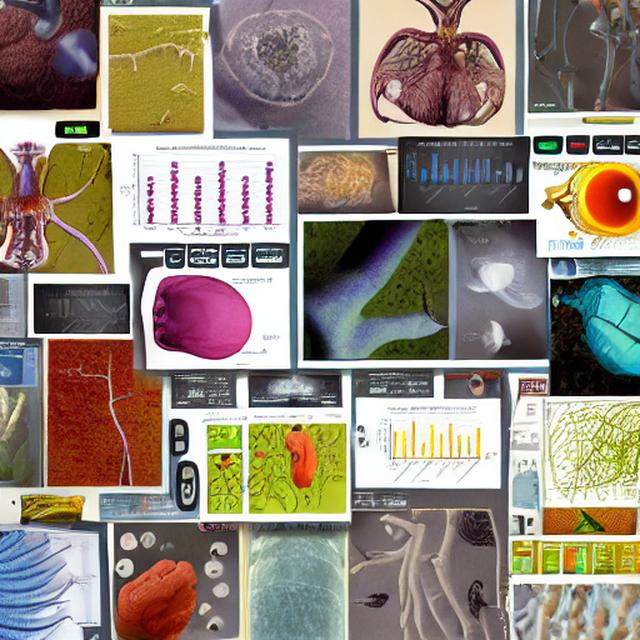Graph: (115, 144, 285, 240), (402, 138, 528, 214), (371, 406, 487, 486), (58, 290, 130, 334)
